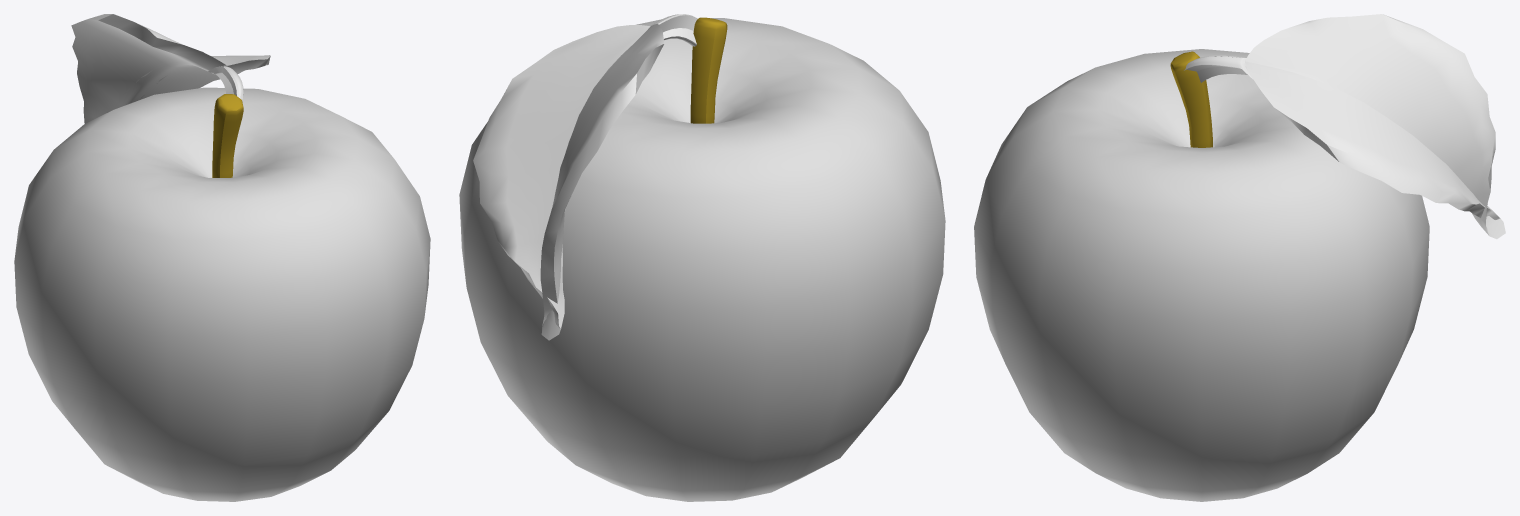
The model's file is apple_lowpoly_01.fbx.
The picture shows the model from 3 angles, left to right: view 1: azimuth 30°, elevation 25°; view 2: azimuth 150°, elevation 25°; view 3: azimuth 270°, elevation 25°; orthographic projection. The views are drawn at different scales.
Visible parts, largest first — view 1: Cube.010, Cube.001; view 2: Cube.010, Cube.001; view 3: Cube.010, Cube.001.
Part boxes in pixels (x1,y1,x2,y2): Cube.010: [14, 87, 430, 501]; Cube.001: [71, 14, 270, 123]; Cube.010: [459, 17, 945, 501]; Cube.001: [473, 14, 697, 340]; Cube.010: [974, 49, 1429, 501]; Cube.001: [1184, 14, 1505, 239].
Bounding box in the file's own units: 62.64 × 65.24 × 73.11.
